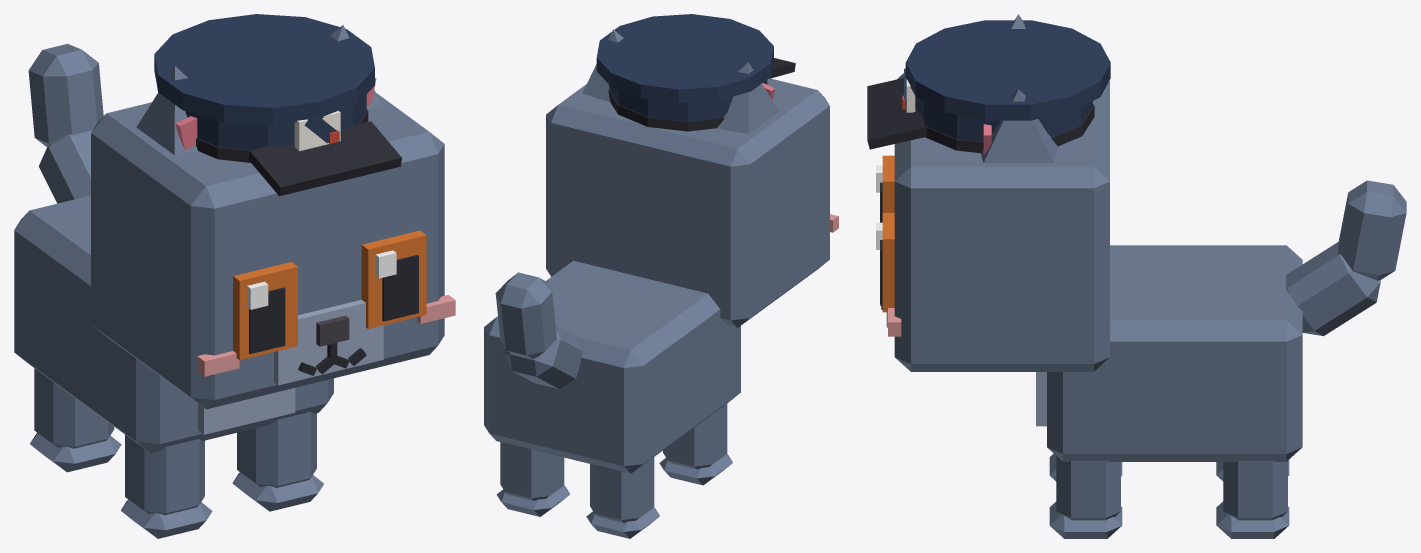
The model's file is CatCafe_Cat_Postie.glb.
3 views of the same model, side by side, from view 1: azimuth 30°, elevation 25°; view 2: azimuth 150°, elevation 25°; view 3: azimuth 270°, elevation 25° (orthographic). The views are drawn at different scales.
Parts seen in each view (by area): view 1: CatCafe_Cat_Postie_Head, CatCafe_Cat_Postie_Prop, CatCafe_Cat_Postie_Body, CatCafe_Cat_Postie_Tail, CatCafe_Cat_Postie_LegF2, CatCafe_Cat_Postie_LegF1, CatCafe_Cat_Postie_Eye2, CatCafe_Cat_Postie_Eye1, CatCafe_Cat_Postie_LegB2, CatCafe_Cat_Postie_EarR; view 2: CatCafe_Cat_Postie_Head, CatCafe_Cat_Postie_Body, CatCafe_Cat_Postie_Prop, CatCafe_Cat_Postie_Tail, CatCafe_Cat_Postie_LegB2, CatCafe_Cat_Postie_LegB1, CatCafe_Cat_Postie_LegF2, CatCafe_Cat_Postie_EarR, CatCafe_Cat_Postie_EarL; view 3: CatCafe_Cat_Postie_Head, CatCafe_Cat_Postie_Body, CatCafe_Cat_Postie_Prop, CatCafe_Cat_Postie_Tail, CatCafe_Cat_Postie_LegF1, CatCafe_Cat_Postie_LegB1, CatCafe_Cat_Postie_EarL, CatCafe_Cat_Postie_Eye1, CatCafe_Cat_Postie_Eye2.
Part boxes in pixels (x1,y1,x2,y2): CatCafe_Cat_Postie_Head: (91, 93, 455, 409); CatCafe_Cat_Postie_Prop: (154, 14, 401, 196); CatCafe_Cat_Postie_Body: (14, 195, 333, 453); CatCafe_Cat_Postie_Tail: (28, 43, 103, 203); CatCafe_Cat_Postie_LegF2: (121, 434, 212, 538); CatCafe_Cat_Postie_LegF1: (232, 411, 323, 511); CatCafe_Cat_Postie_Eye2: (233, 262, 297, 360); CatCafe_Cat_Postie_Eye1: (361, 230, 426, 328); CatCafe_Cat_Postie_LegB2: (30, 368, 121, 472); CatCafe_Cat_Postie_EarR: (136, 66, 197, 155); CatCafe_Cat_Postie_Head: (546, 78, 838, 327); CatCafe_Cat_Postie_Body: (484, 260, 740, 473); CatCafe_Cat_Postie_Prop: (596, 14, 795, 131); CatCafe_Cat_Postie_Tail: (495, 272, 583, 389); CatCafe_Cat_Postie_LegB2: (586, 457, 659, 538); CatCafe_Cat_Postie_LegB1: (496, 442, 570, 516); CatCafe_Cat_Postie_LegF2: (659, 403, 732, 485); CatCafe_Cat_Postie_EarR: (717, 62, 779, 133); CatCafe_Cat_Postie_EarL: (582, 29, 623, 101); CatCafe_Cat_Postie_Head: (880, 73, 1109, 371); CatCafe_Cat_Postie_Body: (1036, 245, 1302, 461); CatCafe_Cat_Postie_Prop: (867, 20, 1110, 153); CatCafe_Cat_Postie_Tail: (1286, 180, 1406, 336); CatCafe_Cat_Postie_LegF1: (1049, 456, 1122, 538); CatCafe_Cat_Postie_LegB1: (1216, 460, 1289, 538); CatCafe_Cat_Postie_EarL: (981, 89, 1057, 163); CatCafe_Cat_Postie_Eye1: (876, 213, 894, 312); CatCafe_Cat_Postie_Eye2: (876, 155, 894, 222).
Bounding box in the file's own units: 1 × 1.86 × 2.
Materials: 1 (1 with a texture image).
